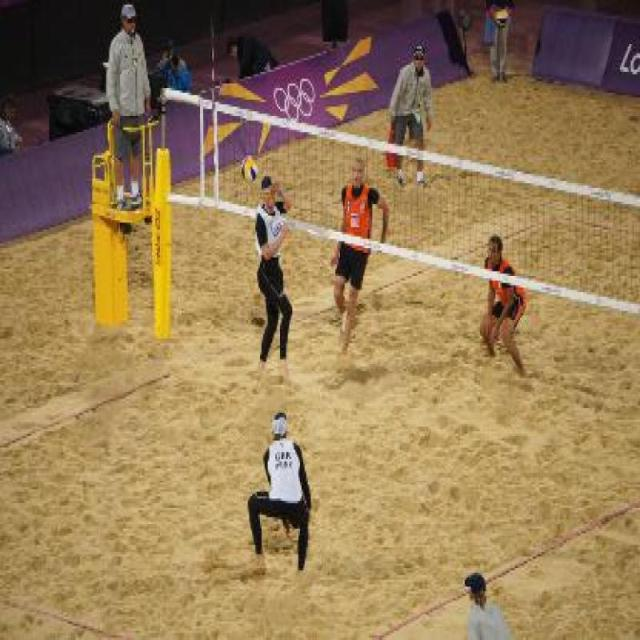volleyball: (238, 153, 257, 181)
